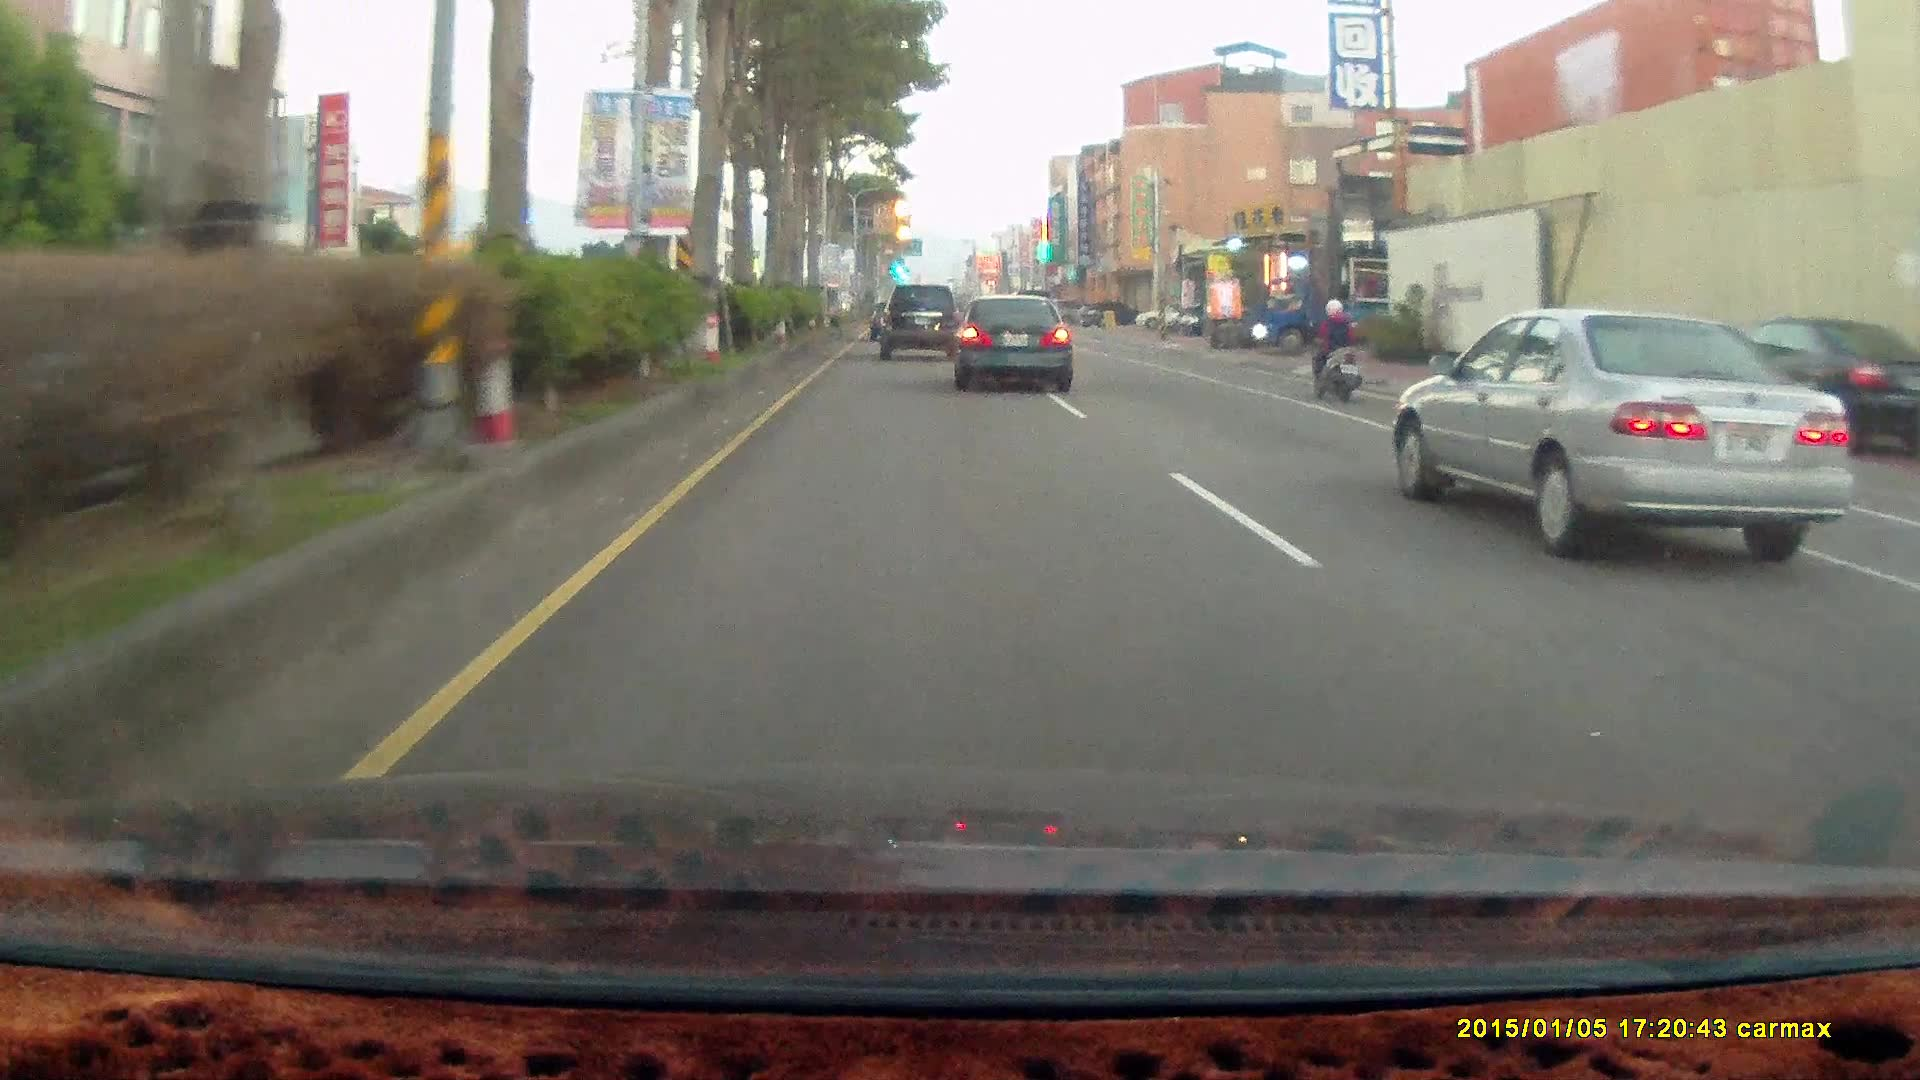rider: (1297, 289, 1375, 412), (1304, 291, 1362, 401)
vehicle: (1390, 303, 1854, 564), (1389, 300, 1858, 555), (1250, 272, 1416, 353), (950, 291, 1073, 392), (955, 293, 1080, 390), (1252, 267, 1398, 345), (879, 281, 960, 356), (878, 283, 961, 354), (1133, 298, 1194, 327), (1081, 298, 1143, 323)
